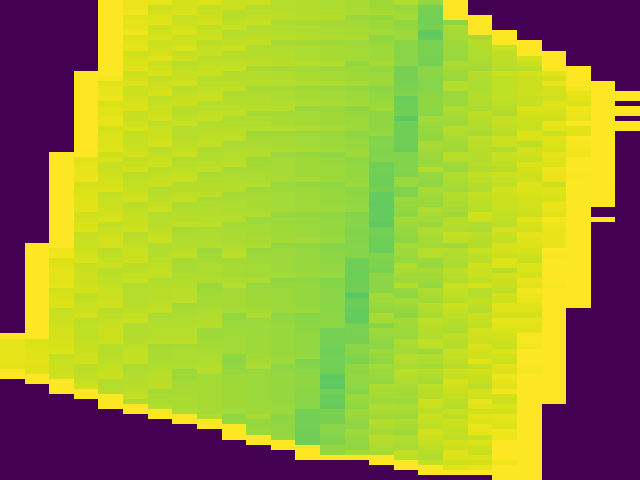cube: (3, 3, 640, 474)
